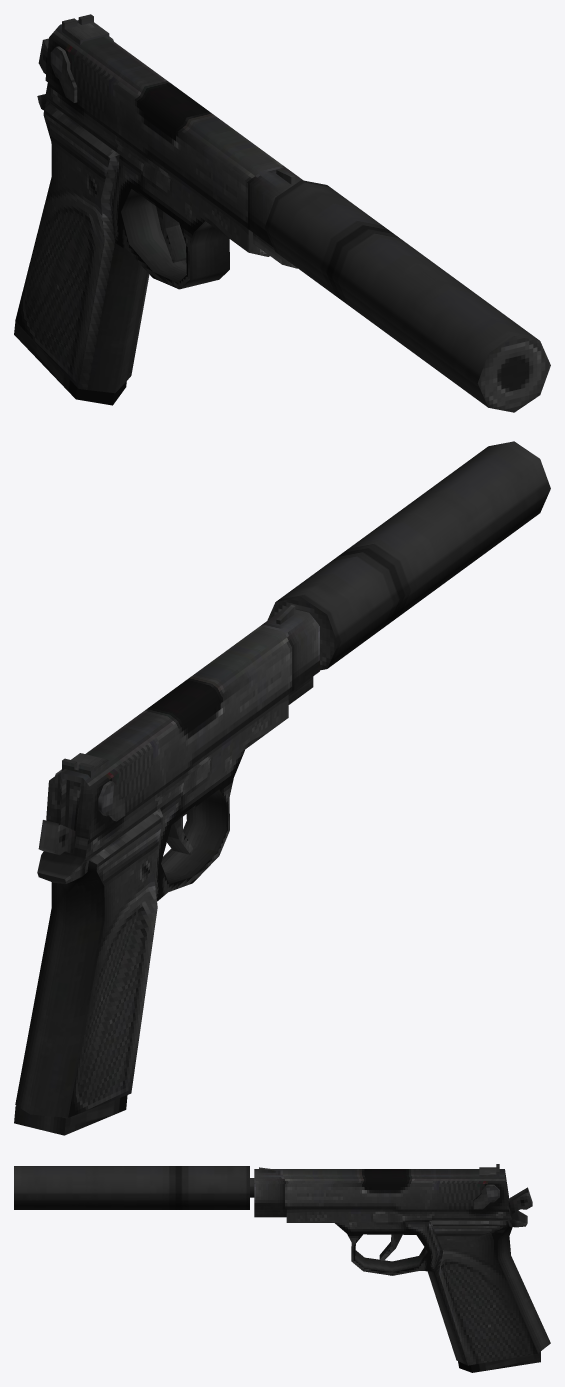
Rendered from pistol.fbx.
3 views of the same model, one above another, from view 1: azimuth 30°, elevation 25°; view 2: azimuth 150°, elevation 25°; view 3: azimuth 270°, elevation 25° (orthographic). The views are drawn at different scales.
Parts seen in each view (by area): view 1: Handle, Supressor, Slide, Magazine, Trigger; view 2: Handle, Supressor, Slide, Magazine, Hammer; view 3: Handle, Slide, Supressor, Magazine, Hammer, Trigger.
Part boxes in pixels (x1,y1,x2,y2): Handle: (15, 83, 269, 393); Supressor: (264, 180, 550, 412); Slide: (45, 14, 303, 268); Magazine: (14, 321, 126, 405); Trigger: (156, 206, 186, 262); Handle: (15, 694, 288, 1117); Supressor: (267, 441, 550, 670); Slide: (46, 605, 319, 839); Magazine: (14, 1095, 127, 1135); Hammer: (38, 820, 75, 855); Handle: (250, 1178, 550, 1365); Slide: (254, 1164, 508, 1217); Supressor: (14, 1166, 249, 1209); Magazine: (458, 1351, 540, 1372); Hammer: (508, 1187, 532, 1214); Trigger: (379, 1234, 402, 1261).
Bounding box in the file's own units: 80.5 × 381 × 921.
